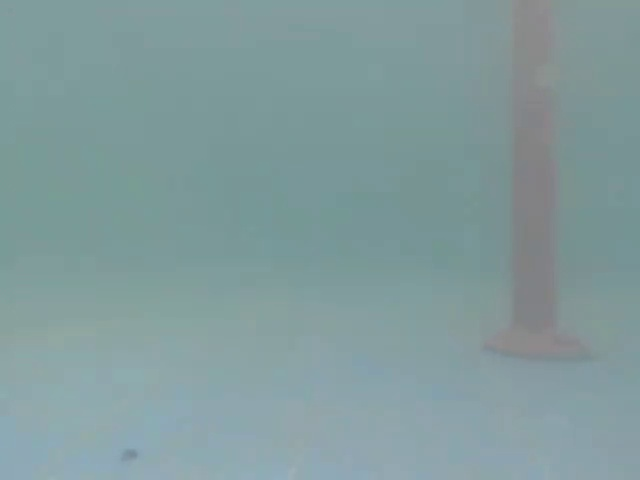flare: (467, 0, 594, 379)
